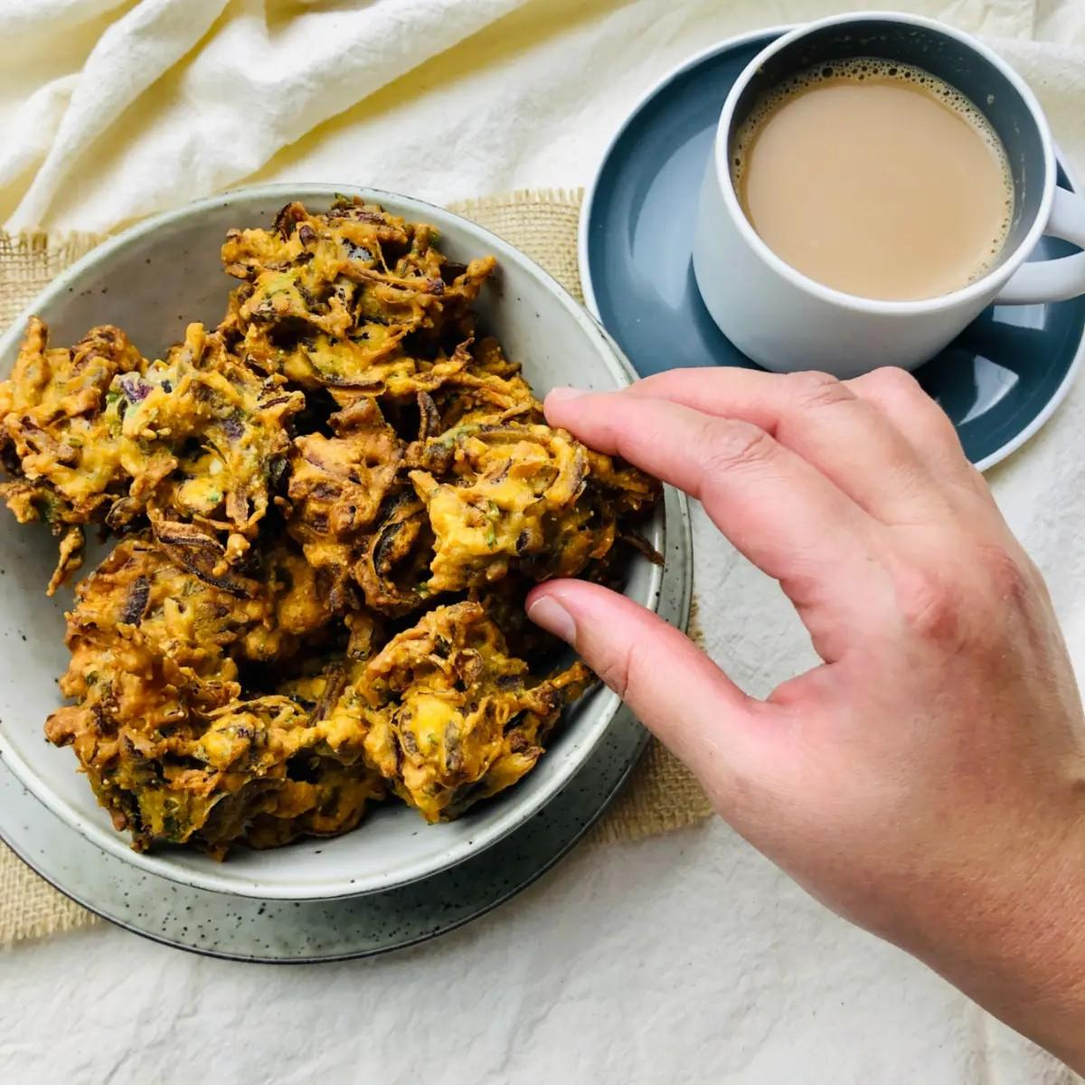Chai: (736, 58, 1011, 304)
OnionPakoda: (0, 192, 654, 861)
